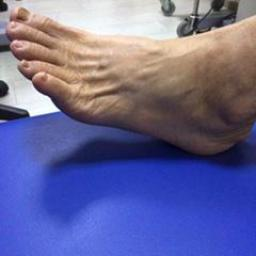Lateral View -Left Foot-: (2, 2, 254, 179)
